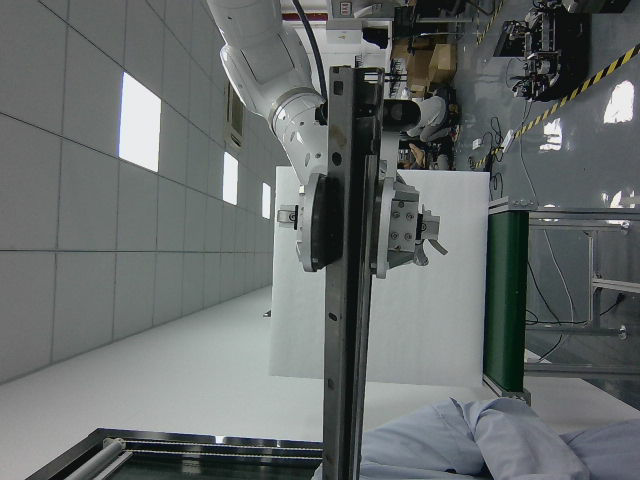right: (306, 66, 386, 476)
